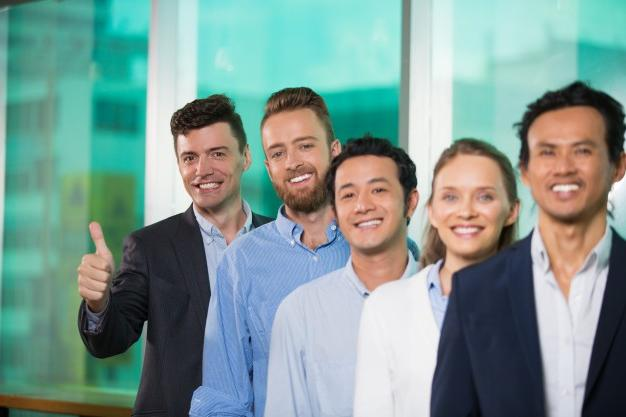thumbsup: (77, 221, 114, 301)
